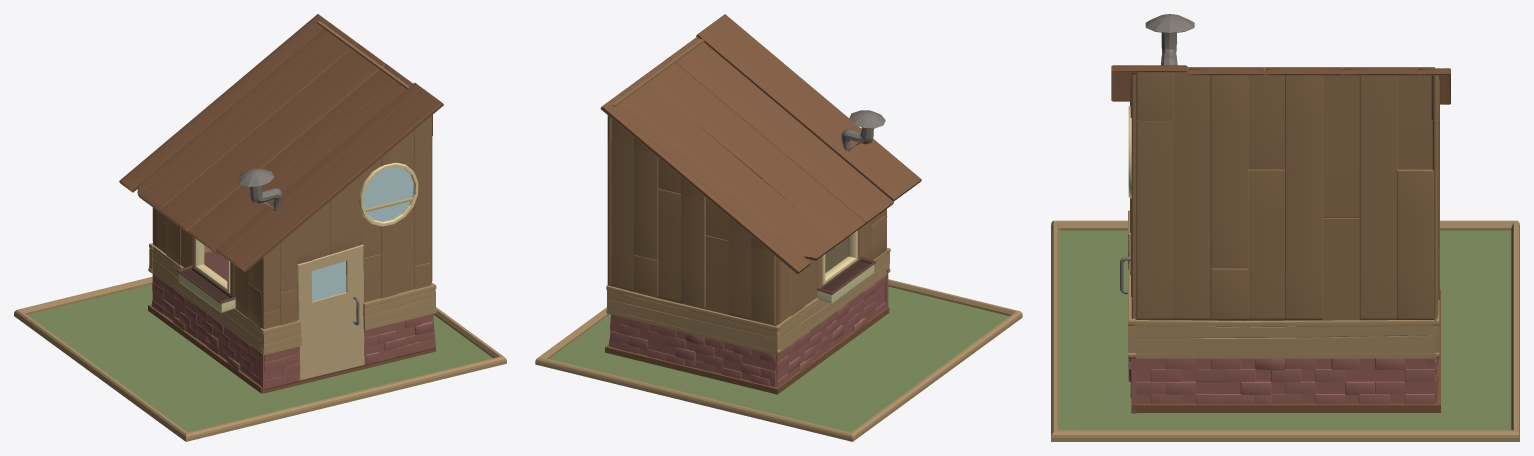
Rendered from atoll_sm_lumberjackHouse.fbx.
3 views of the same model, side by side, from view 1: azimuth 30°, elevation 25°; view 2: azimuth 150°, elevation 25°; view 3: azimuth 270°, elevation 25° (orthographic). The views are drawn at different scales.
Parts seen in each view (by area): view 1: Ground, FrontWall, RoofSlat, LeftWall, RoofSlat3, RoofSlat2, RoofSlat1, Door, RoofSlat4, Glass1, Glass, RoofThing (+6 smaller); view 2: BackWall, Ground, LeftWall, RoofSlat, RoofSlat2, RoofSlat1, RoofSlat3, RoofSlat4, Floor, RoofThing, Planter, WindowFrame (+2 smaller); view 3: RightWall, Ground, Floor, FrontWall, BackWall, RoofThing, RoofSlat, RoofSlat2, RoofSlat3, RoofSlat1, RoofSlat4.
Boxes of the visible parts, x1,y1,x2,y2 form: Ground: [14, 276, 506, 441]; FrontWall: [260, 116, 436, 393]; RoofSlat: [216, 82, 443, 272]; LeftWall: [152, 208, 262, 385]; RoofSlat3: [137, 23, 357, 212]; RoofSlat2: [159, 43, 385, 233]; RoofSlat1: [187, 64, 412, 253]; Door: [297, 244, 364, 380]; RoofSlat4: [119, 14, 329, 192]; Glass1: [363, 167, 413, 221]; Glass: [311, 261, 346, 301]; RoofThing: [237, 168, 282, 210]; BackWall: [606, 115, 781, 387]; Ground: [535, 279, 1022, 441]; LeftWall: [776, 210, 887, 386]; RoofSlat: [696, 14, 921, 201]; RoofSlat2: [641, 57, 865, 244]; RoofSlat1: [670, 36, 893, 224]; RoofSlat3: [614, 77, 837, 260]; RoofSlat4: [600, 97, 810, 274]; Floor: [605, 307, 889, 394]; RoofThing: [841, 110, 885, 151]; Planter: [817, 256, 876, 303]; WindowFrame: [822, 230, 857, 284]; RightWall: [1135, 67, 1436, 404]; Ground: [1051, 220, 1519, 441]; Floor: [1132, 289, 1440, 412]; FrontWall: [1128, 72, 1136, 413]; BackWall: [1426, 75, 1439, 402]; RoofThing: [1145, 14, 1194, 65]; RoofSlat: [1111, 65, 1187, 101]; RoofSlat2: [1265, 68, 1342, 75]; RoofSlat3: [1342, 68, 1418, 75]; RoofSlat1: [1188, 68, 1264, 75]; RoofSlat4: [1417, 68, 1450, 104].
Size of the model in its own units: 38.83 by 29.97 by 36.02.
